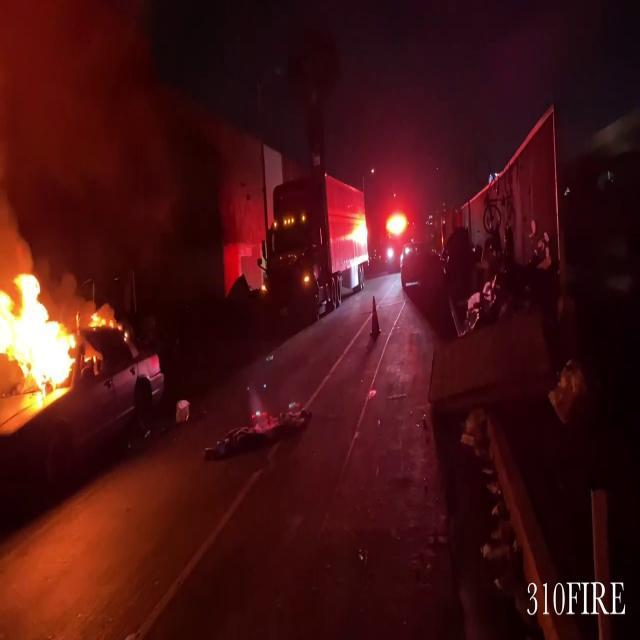Fire: (0, 263, 84, 397)
Smoke: (0, 0, 38, 277)
